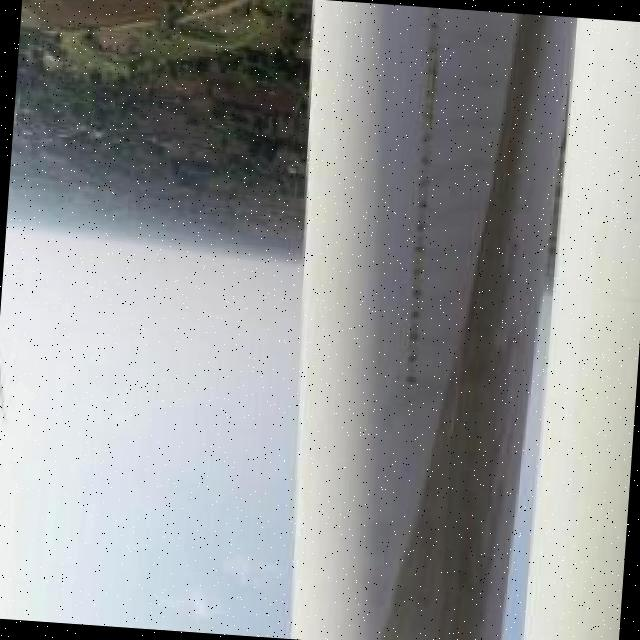Dirt: (365, 7, 542, 640)
